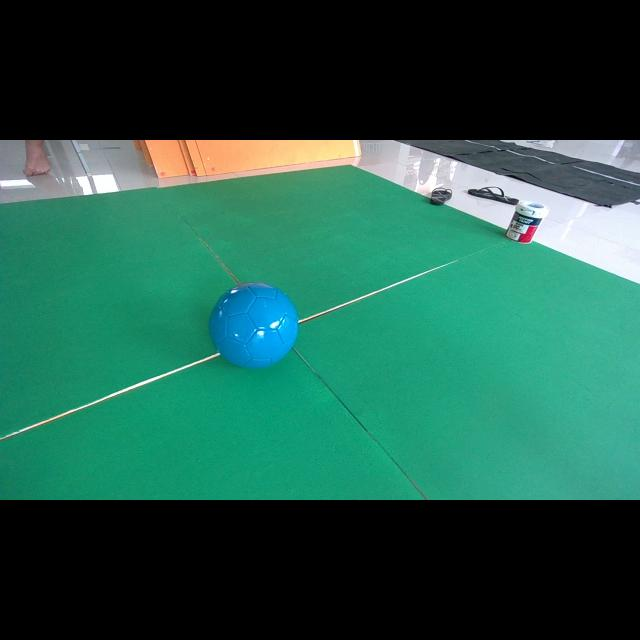B: (209, 282, 299, 369)
